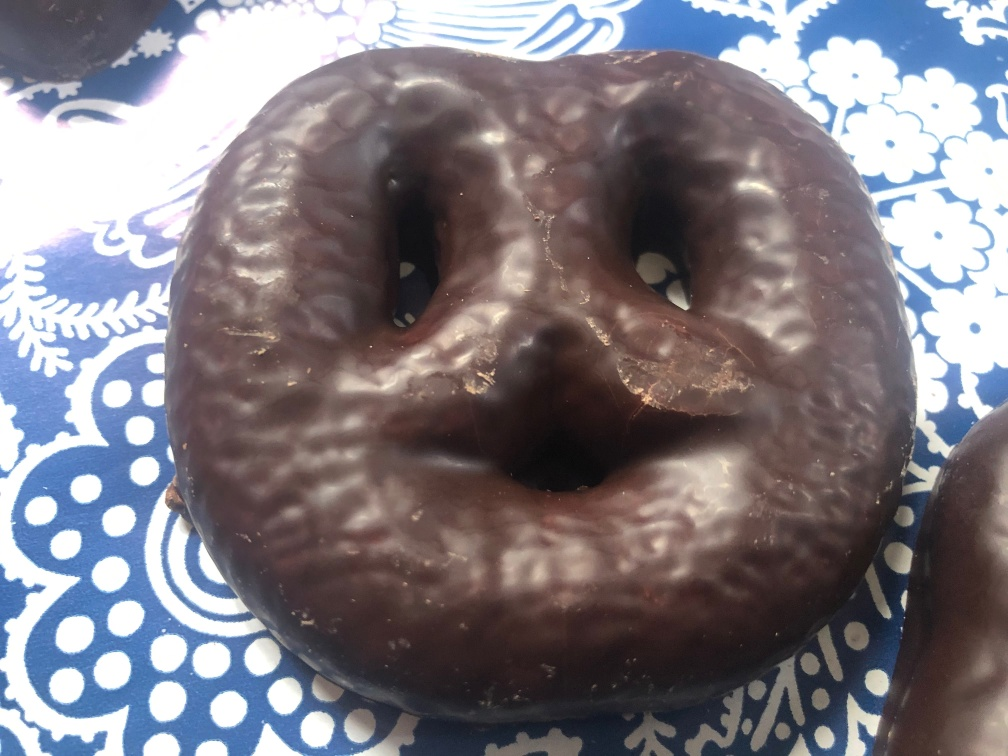bretzel: (161, 41, 913, 722)
